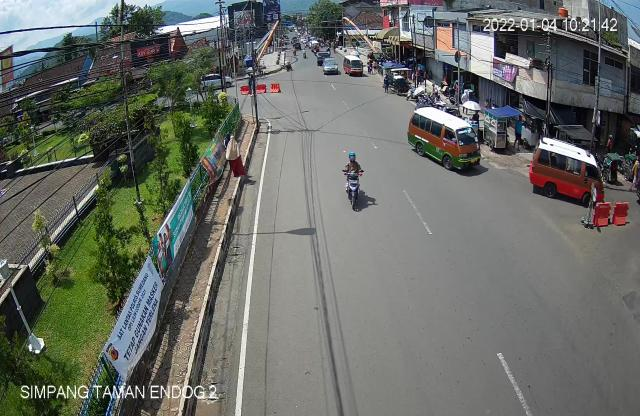Mobil: (405, 101, 482, 188), (530, 137, 606, 209)
Motor: (340, 148, 367, 215)
